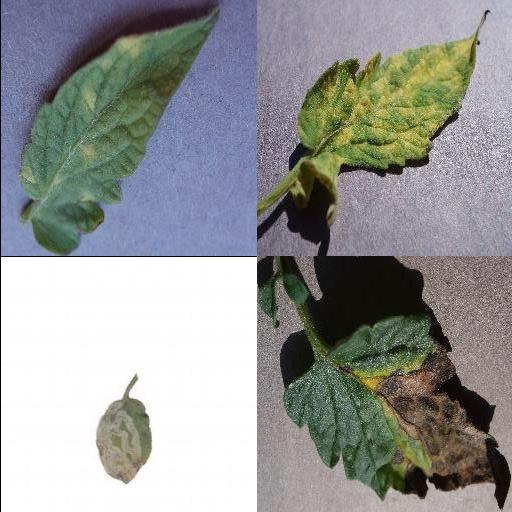Early Blight: (283, 318, 501, 498)
Leaf Miner: (93, 396, 150, 484)
Leaf Mold: (19, 7, 221, 256), (297, 11, 489, 226)
